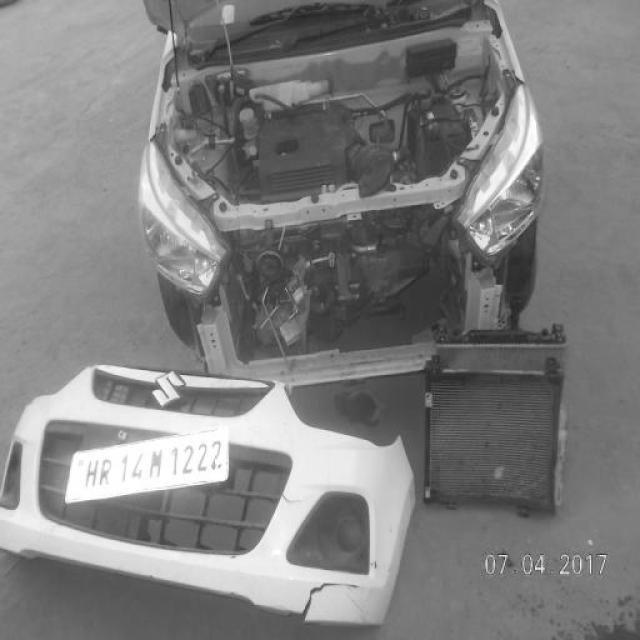car damage: (158, 156, 537, 393)
